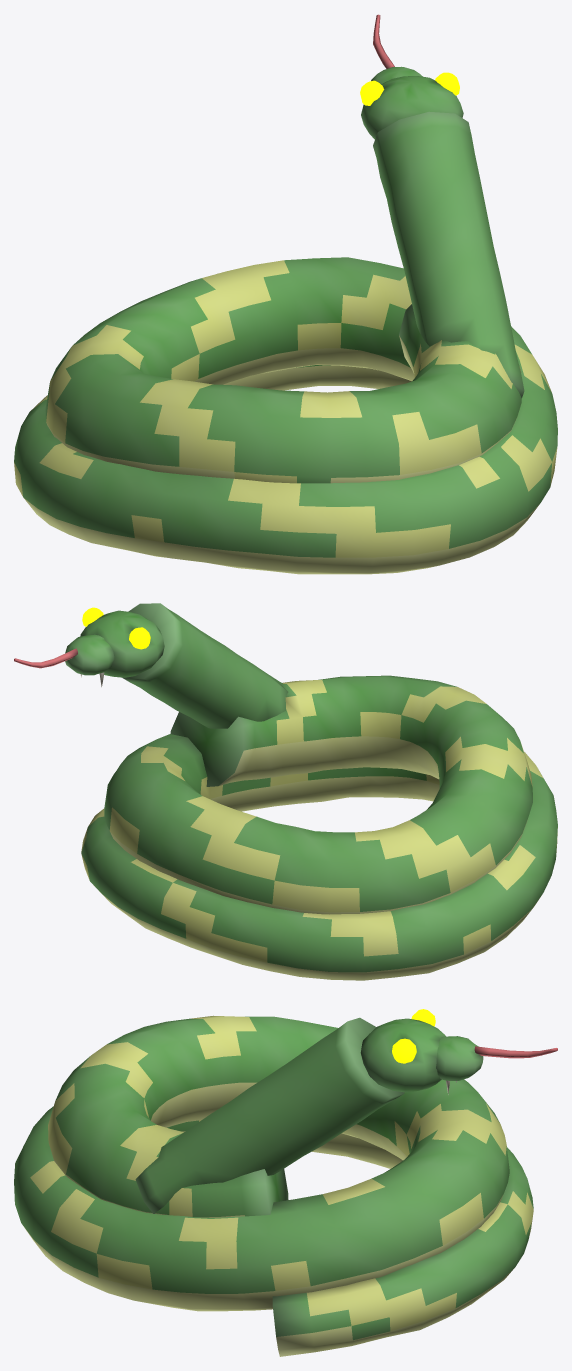
3 views of the same model, one above another, from view 1: azimuth 30°, elevation 25°; view 2: azimuth 150°, elevation 25°; view 3: azimuth 270°, elevation 25° (orthographic). The views are drawn at different scales.
Parts seen in each view (by area): view 1: torso, head; view 2: torso, head; view 3: torso, head.
Boxes of the visible parts, box(x1,y1,x2,y2) form: torso: box(14, 257, 557, 574); head: box(360, 14, 524, 397); torso: box(81, 675, 557, 980); head: box(14, 603, 288, 728); torso: box(14, 1015, 533, 1356); head: box(135, 1009, 557, 1213).
Bounding box in the file's own units: 0.6646 × 0.4279 × 0.6757.
